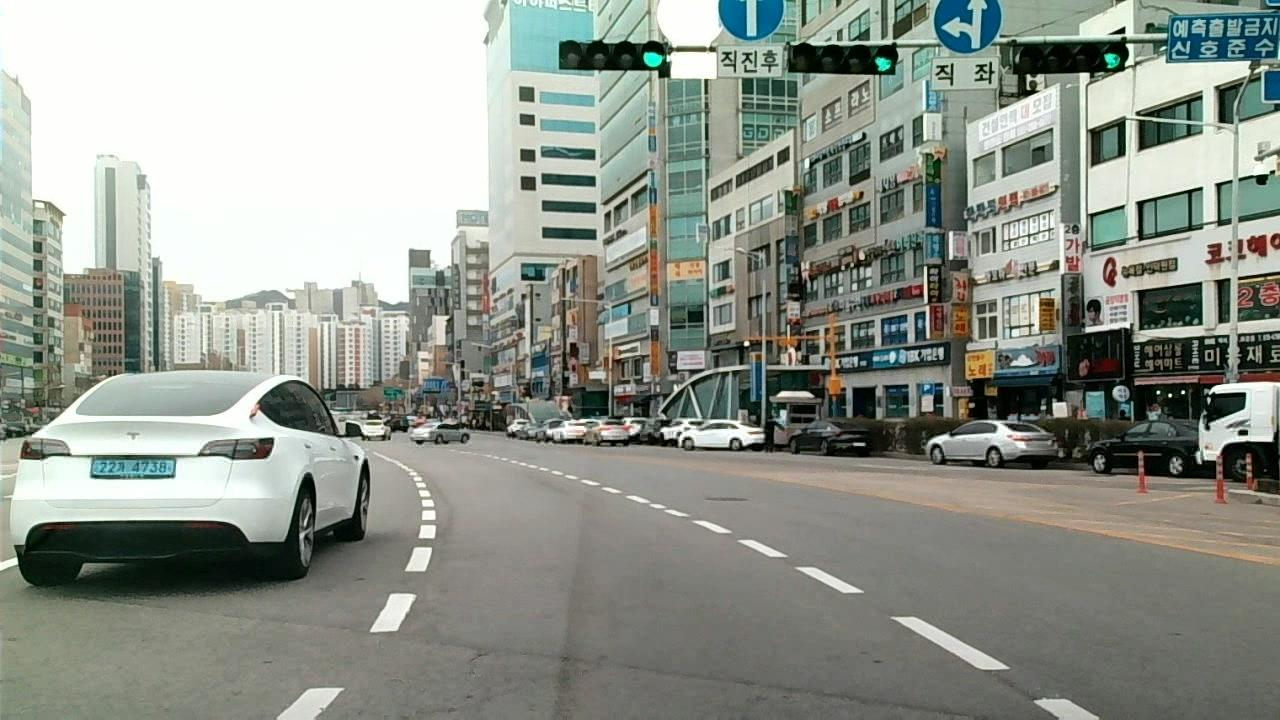hcrack: (774, 679, 955, 713), (579, 653, 759, 687), (401, 631, 564, 658), (207, 610, 364, 632)
